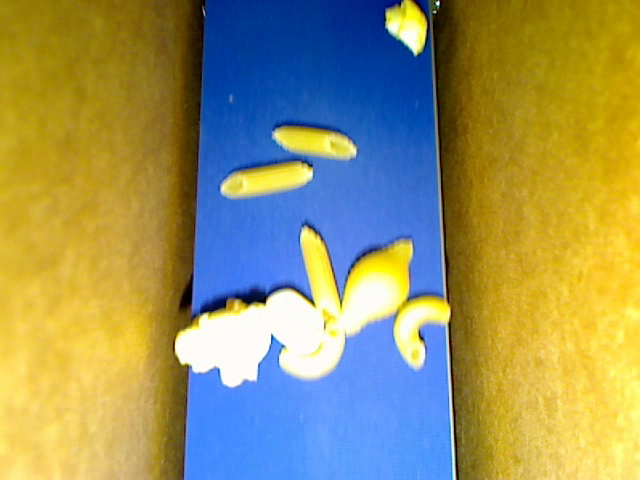elbow: (392, 295, 452, 371), (278, 318, 345, 381)
penne: (298, 224, 341, 320), (219, 161, 314, 197), (272, 124, 359, 161)
shell: (340, 237, 414, 336)
